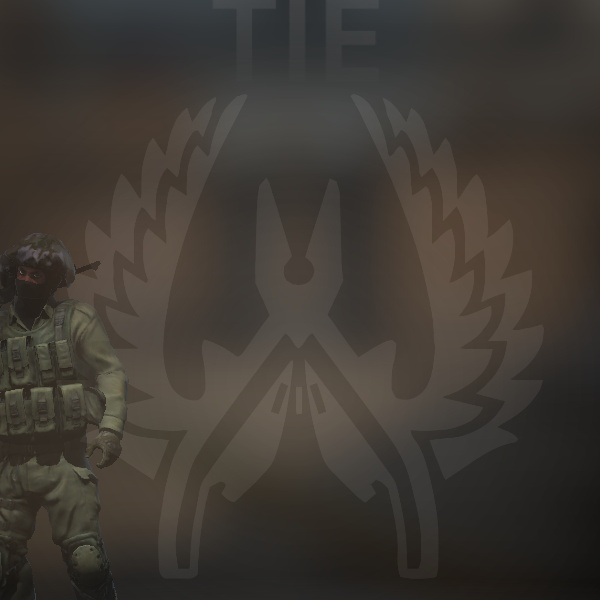ct_body: (0, 215, 172, 600)
ct_head: (0, 229, 81, 320)
